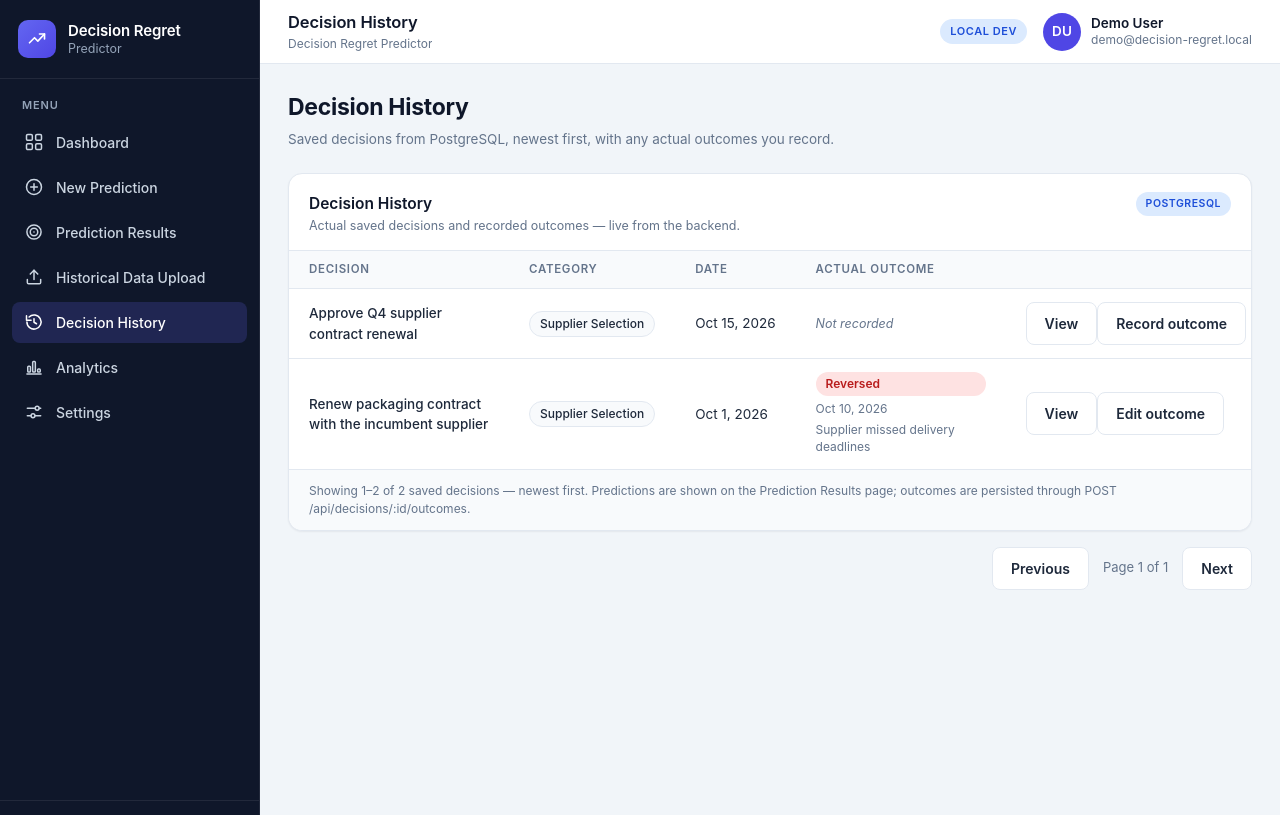
it: Decision History › records an unknown outcome without an outcome_date
Click the button "Record outcome" at {"x": 1172, "y": 324}, box [1097,302,1246,345]
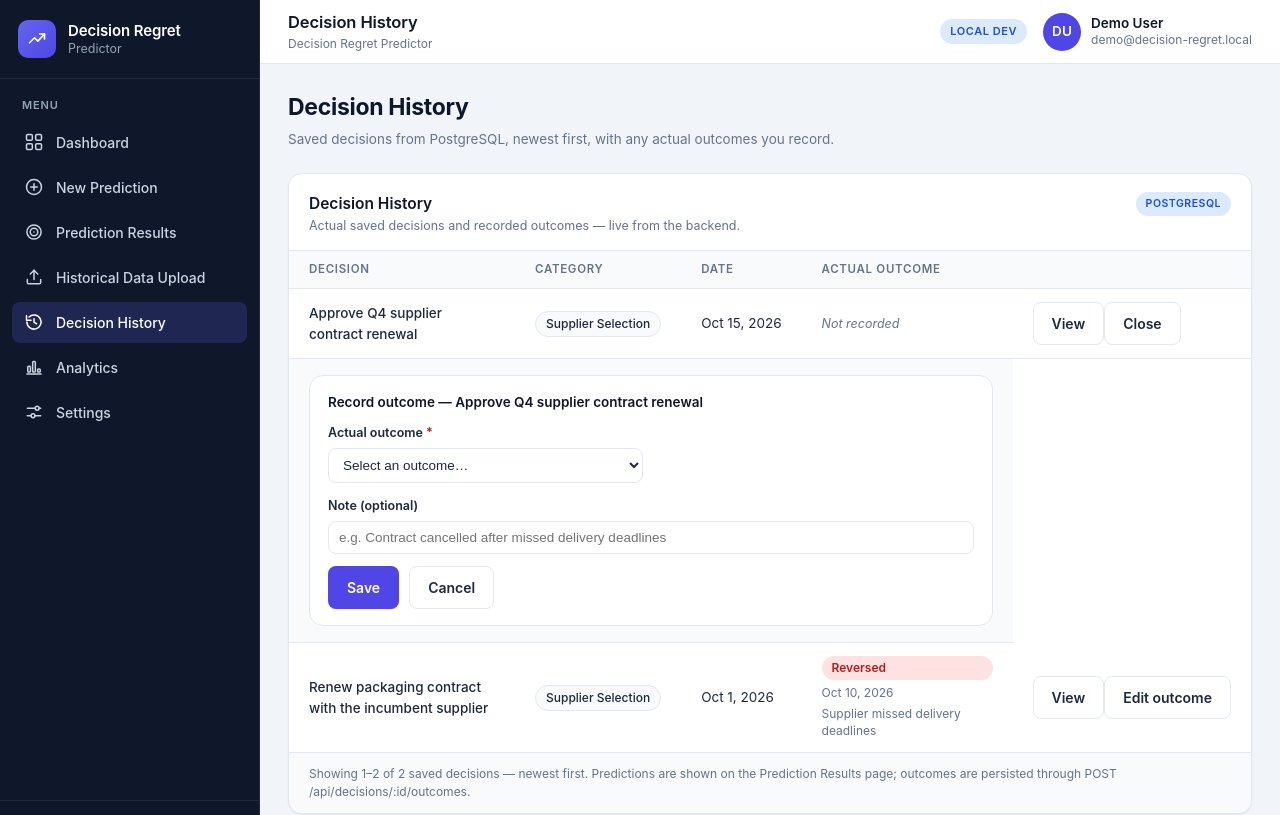
Select "Unknown (still open)" in the dropdown labelled "Actual outcome *" at {"x": 485, "y": 466}, box [328,448,643,483]
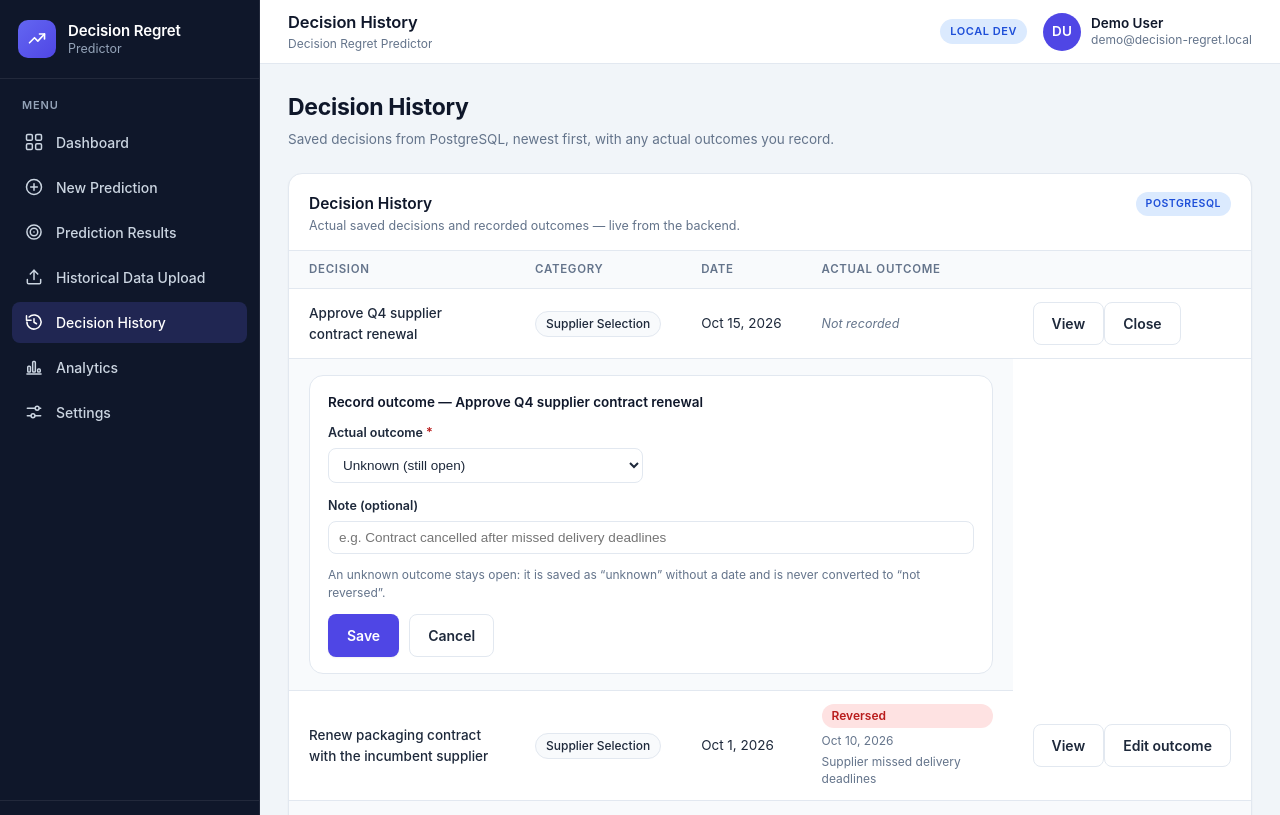
Click the button "Save" at {"x": 364, "y": 635}, box [328,614,399,657]
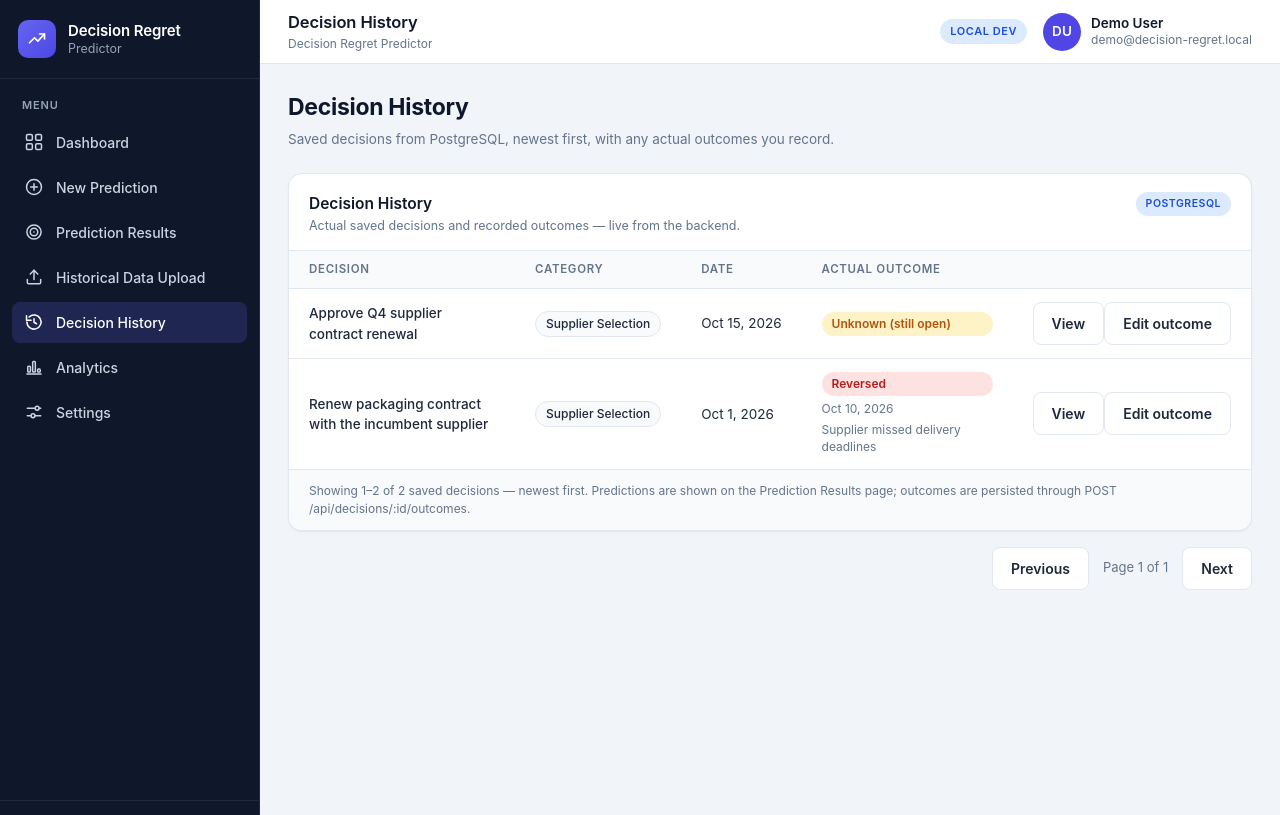
Now the text "Unknown (still open)" is shown, box [822,312,992,336]
